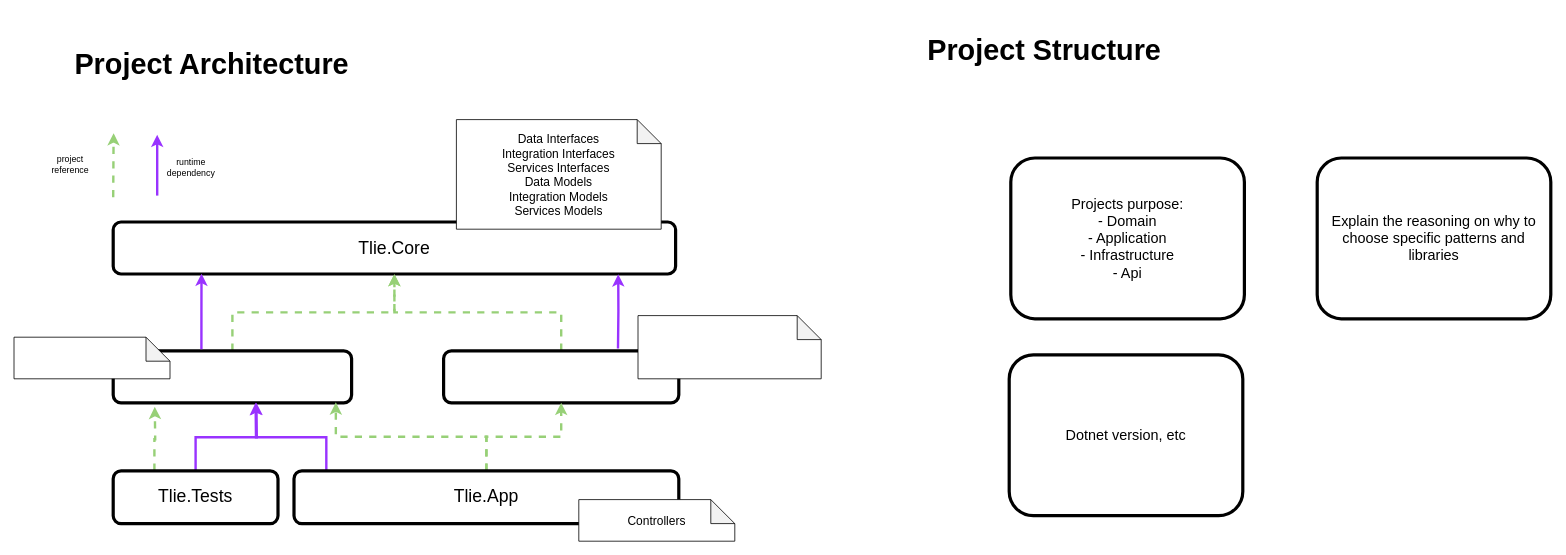
Image size: 1566x555. Some labels were removed from this diagram. The centre of each missing label's shape, as x and y in pixels:
Data Services Integration Services Email Services, etc: point (729, 347)
Tlie Services: point (91, 357)
Tlie.Business: point (232, 376)
Tlie.Integration: point (561, 376)
